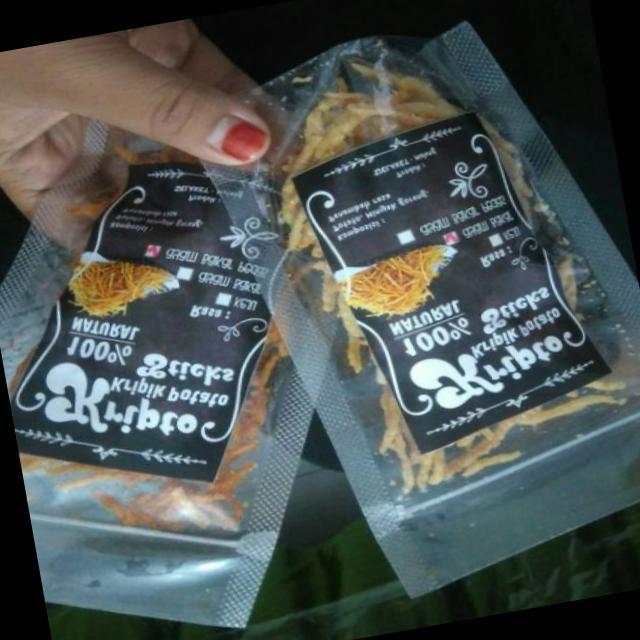KemasanPlastik: (185, 1, 640, 632), (0, 79, 409, 640)
